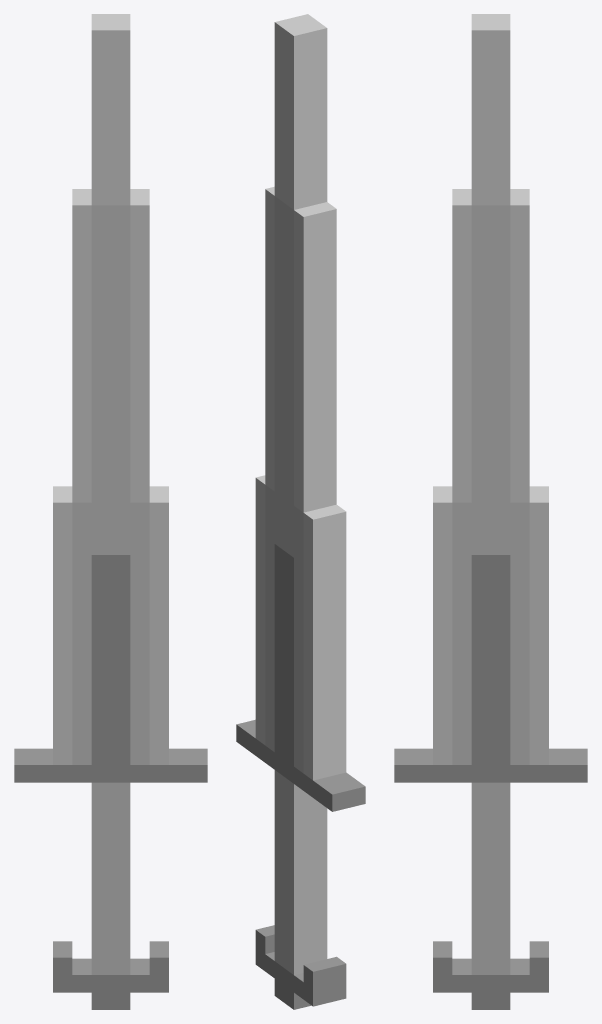
File: weaponsshields-10.obj
3 views of the same model, side by side, from view 1: azimuth 90°, elevation 25°; view 2: azimuth 210°, elevation 25°; view 3: azimuth 270°, elevation 25° (orthographic).
Parts seen in each view (by area): view 1: weaponsshields-10; view 2: weaponsshields-10; view 3: weaponsshields-10.
Part boxes in pixels (bbox=[...]): weaponsshields-10: bbox=[14, 14, 207, 1009]; weaponsshields-10: bbox=[236, 14, 365, 1009]; weaponsshields-10: bbox=[394, 14, 587, 1009].
Bounding box in the file's own units: 2 × 56 × 10.
1 material, 1 textured.
